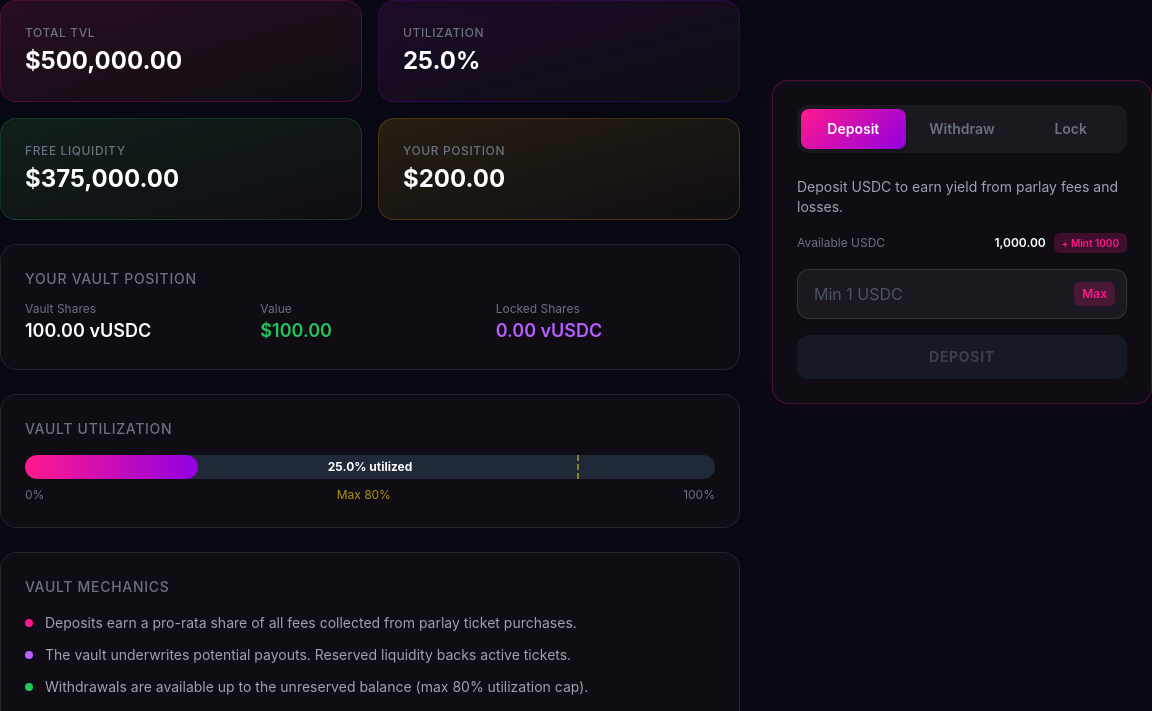
Test case: VaultDashboard › withdraw minimum guard › shows 'Insufficient Shares' for amount > shares
The width and height of the screenshot is (1152, 711).
Click the button "Withdraw": (962, 129) top-left (910, 109), bottom-right (1014, 149)
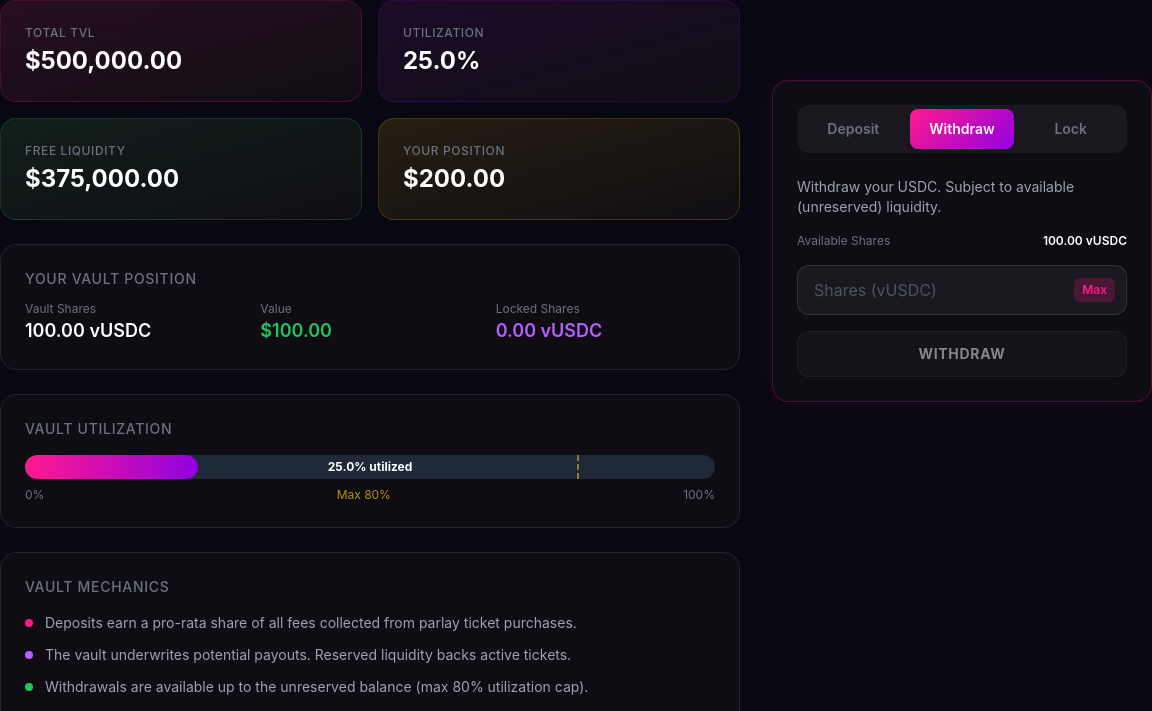
In the field with placeholder "Shares (vUSDC)": (962, 290) top-left (797, 265), bottom-right (1127, 315), type "999"
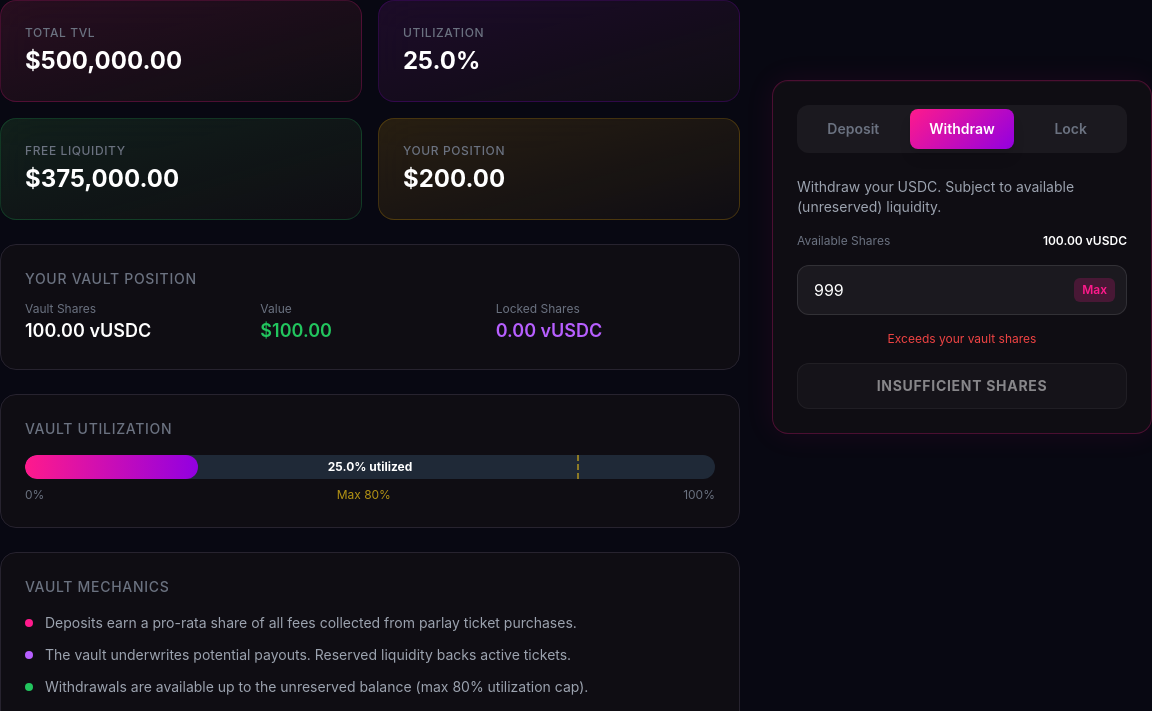
Check: the button "Insufficient Shares" is shown, box top-left (797, 363), bottom-right (1127, 409)
